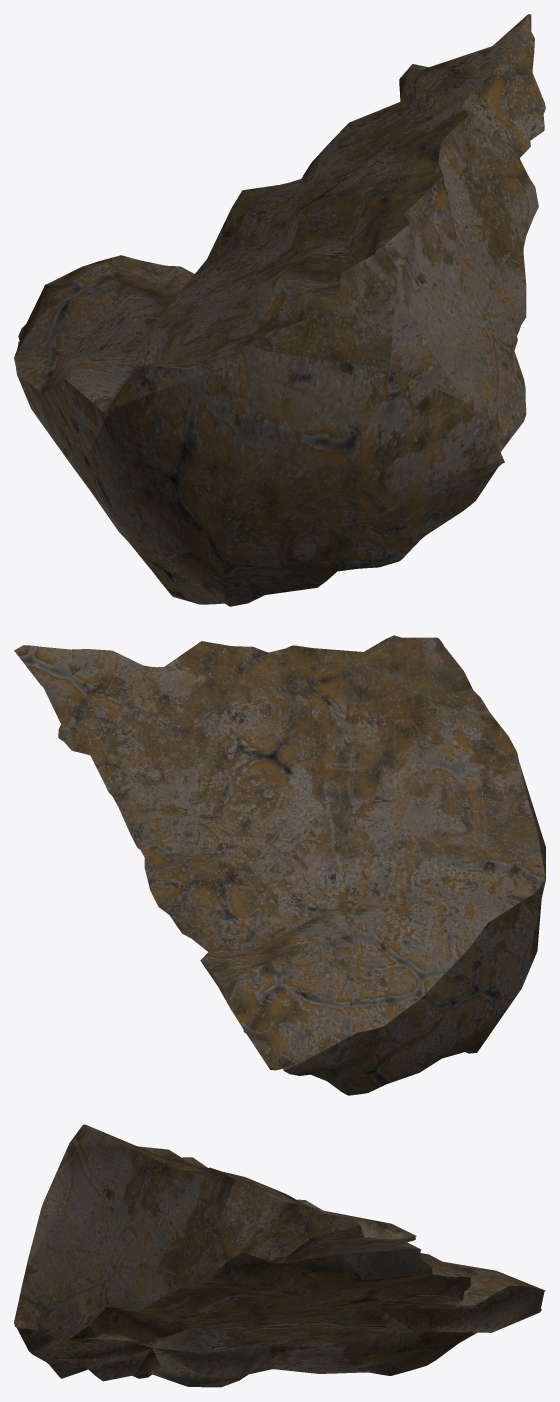
Rendered from RockShard4.fbx.
The picture shows the model from 3 angles, top to bottom: view 1: azimuth 30°, elevation 25°; view 2: azimuth 150°, elevation 25°; view 3: azimuth 270°, elevation 25°; orthographic projection. The views are drawn at different scales.
Parts seen in each view (by area): view 1: RockShard4; view 2: RockShard4; view 3: RockShard4.
Boxes of the visible parts, x1,y1,x2,y2 form: RockShard4: (14,14,545,606); RockShard4: (14,635,545,1095); RockShard4: (14,1124,545,1387).
Size of the model in its own units: 80.77 by 62.7 by 87.77.
